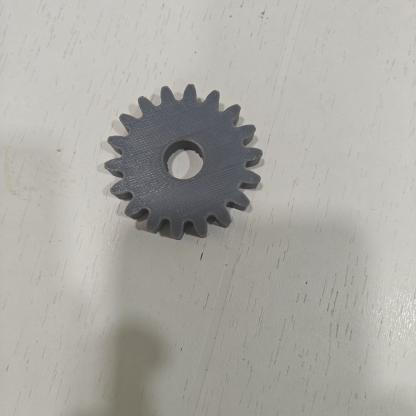gear: (90, 79, 275, 254)
